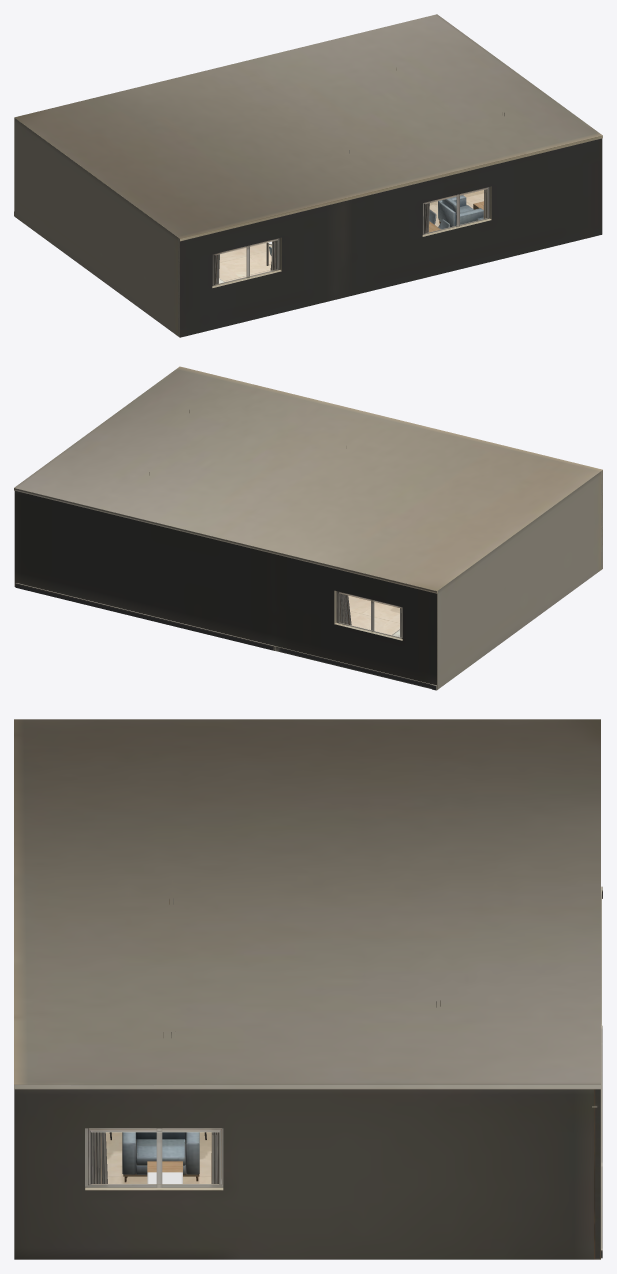
File: TwoBedApartment.glb
The picture shows the model from 3 angles, top to bottom: view 1: azimuth 30°, elevation 25°; view 2: azimuth 150°, elevation 25°; view 3: azimuth 270°, elevation 25°; orthographic projection. The views are drawn at different scales.
Parts seen in each view (by area): view 1: TwoBedInterior; view 2: TwoBedInterior; view 3: TwoBedInterior.
Boxes of the visible parts, bbox=[...] form: TwoBedInterior: bbox=[14, 14, 602, 337]; TwoBedInterior: bbox=[14, 366, 602, 690]; TwoBedInterior: bbox=[14, 719, 602, 1259].
Size of the model in its own units: 25.07 by 5.87 by 17.07.
1 material, 1 textured.
